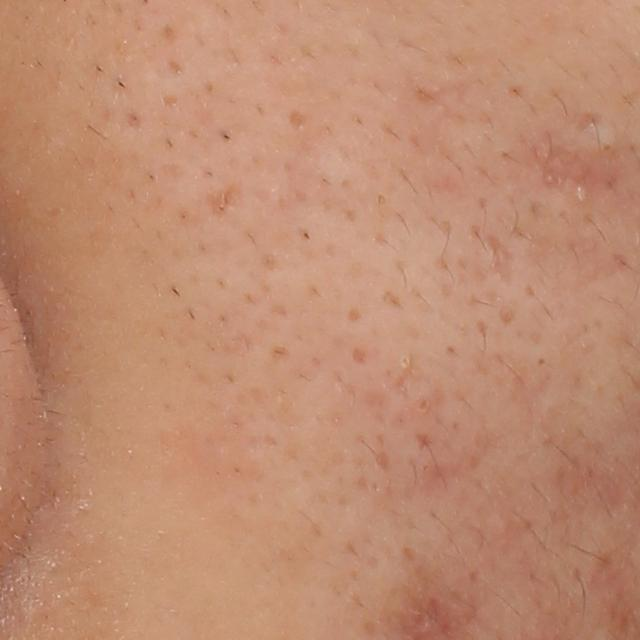atrophic_scar: (522, 136, 639, 209), (483, 233, 518, 290), (200, 183, 244, 217), (575, 109, 603, 134)
